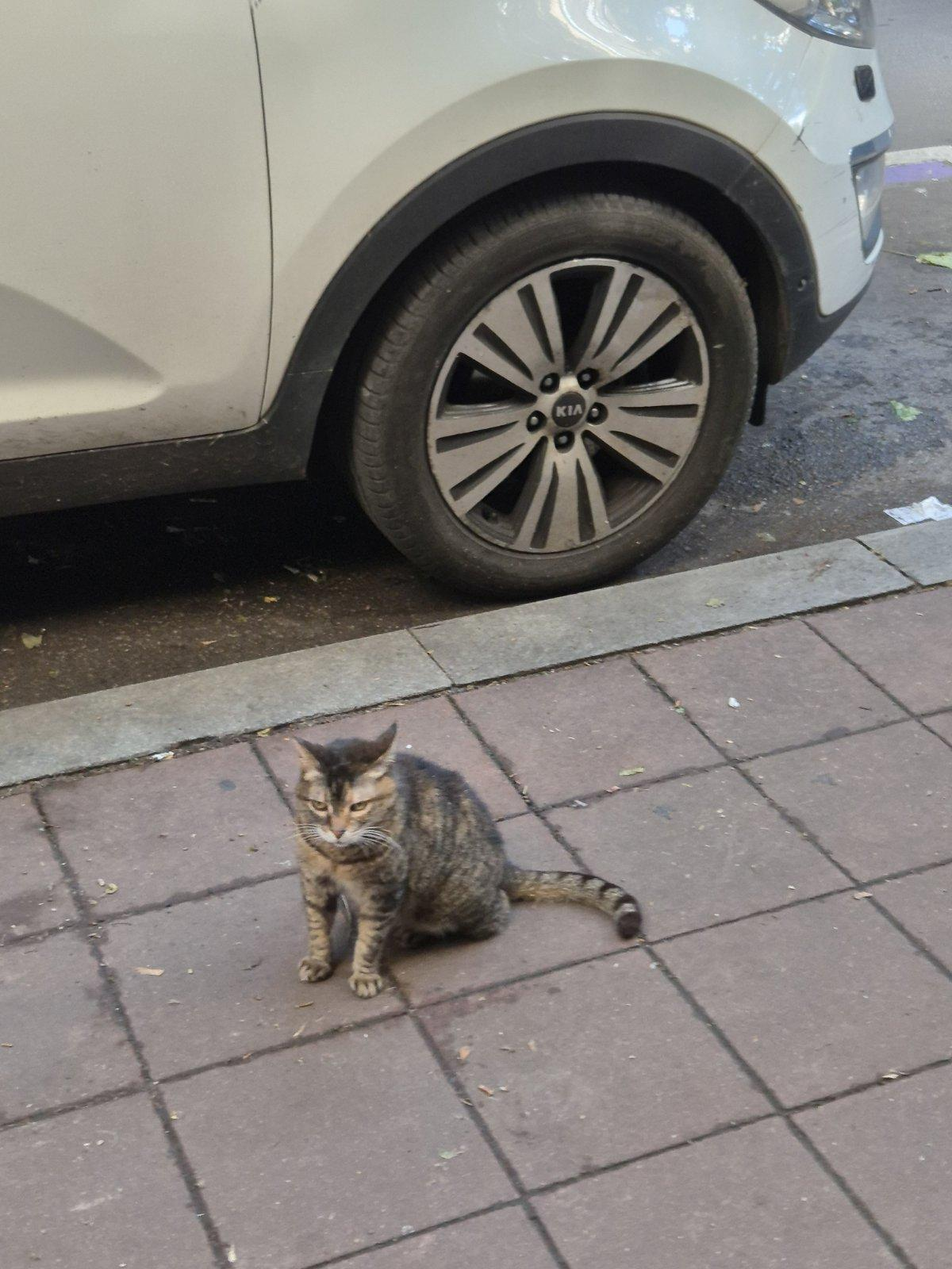macka: (290, 718, 642, 1000)
